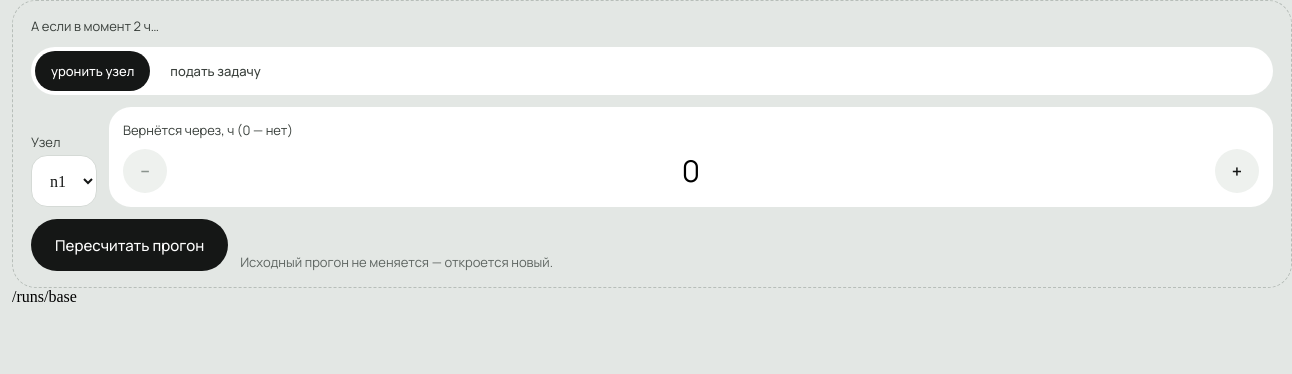
Test: RunEvents › shows why the API refused the event
Click the button "Пересчитать прогон". click: click(130, 245)
box: [31,219,228,271]
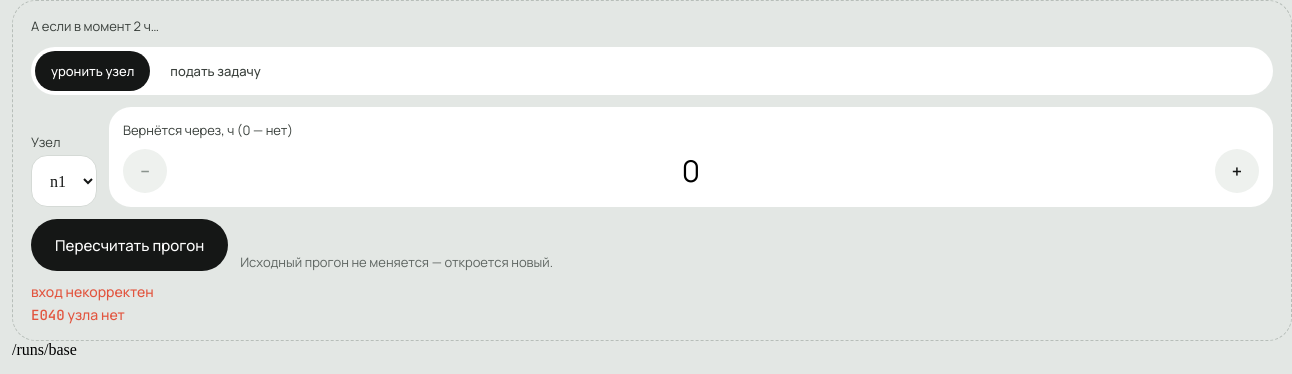
Expected: the text with test id "where" reads "/runs/base", [12,341,77,358]
Expected: the message reads "вход некорректен E040 узла нет", [31,282,154,324]
